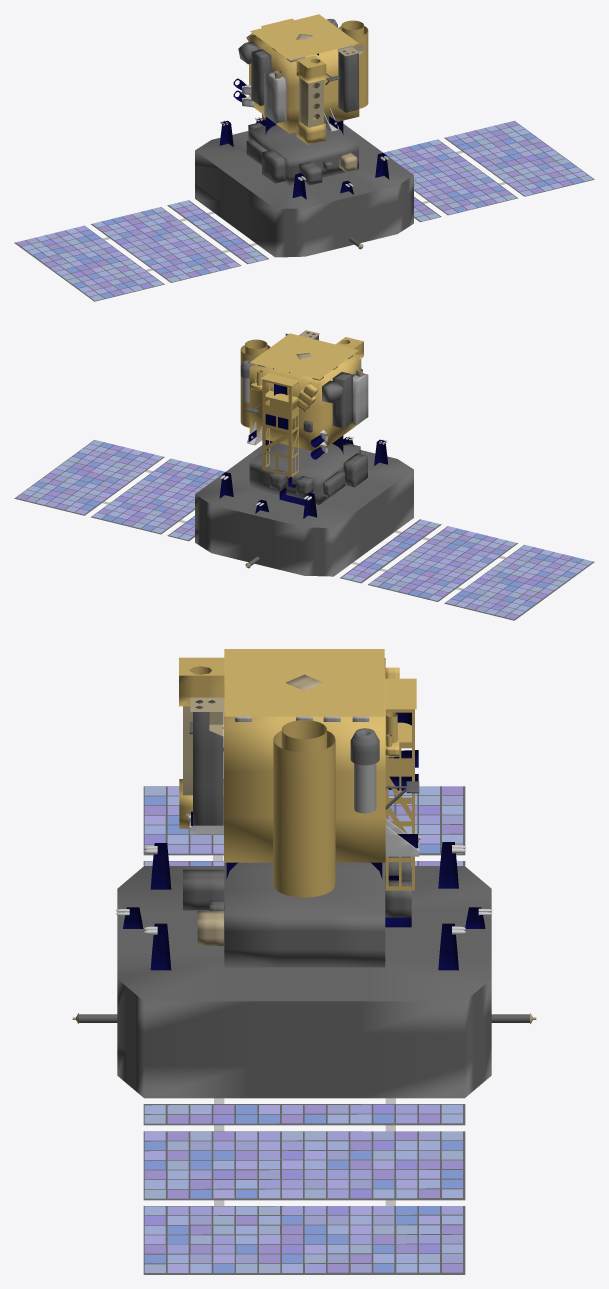
The model's file is Solar and Heliospheric Observatory.glb.
3 views of the same model, one above another, from view 1: azimuth 30°, elevation 25°; view 2: azimuth 150°, elevation 25°; view 3: azimuth 270°, elevation 25° (orthographic). The views are drawn at different scales.
Visible parts, largest first — view 1: Fake; view 2: Fake; view 3: Fake.
Part boxes in pixels (box(x1,y1,x2,y2)): Fake: box(14, 14, 594, 301); Fake: box(14, 330, 594, 620); Fake: box(72, 649, 536, 1274).
Bounding box in the file's own units: 43.27 × 14.43 × 17.34.
